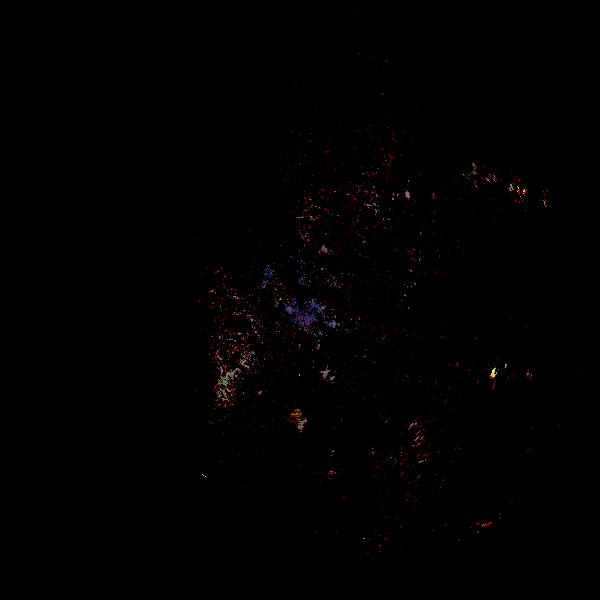roost: (277, 405, 307, 435)
